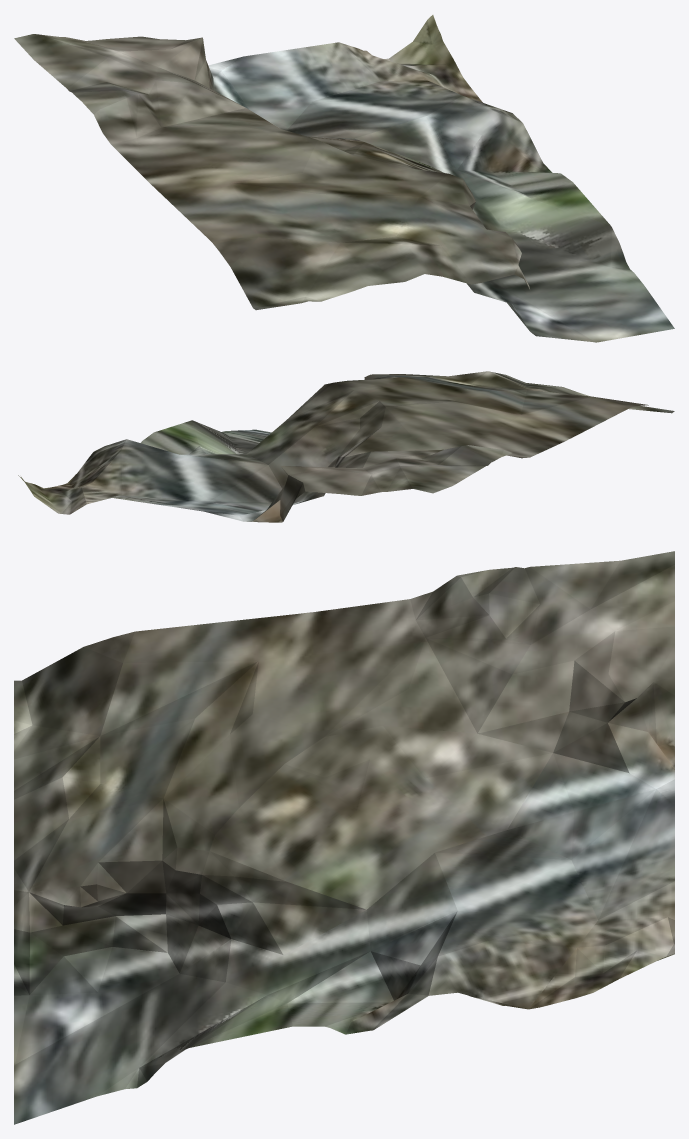
The picture shows the model from 3 angles, top to bottom: view 1: azimuth 30°, elevation 25°; view 2: azimuth 150°, elevation 25°; view 3: azimuth 270°, elevation 25°; orthographic projection. The views are drawn at different scales.
Size of the model in its own units: 1.67 by 0.8231 by 1.67.
3 materials, 3 textured.
